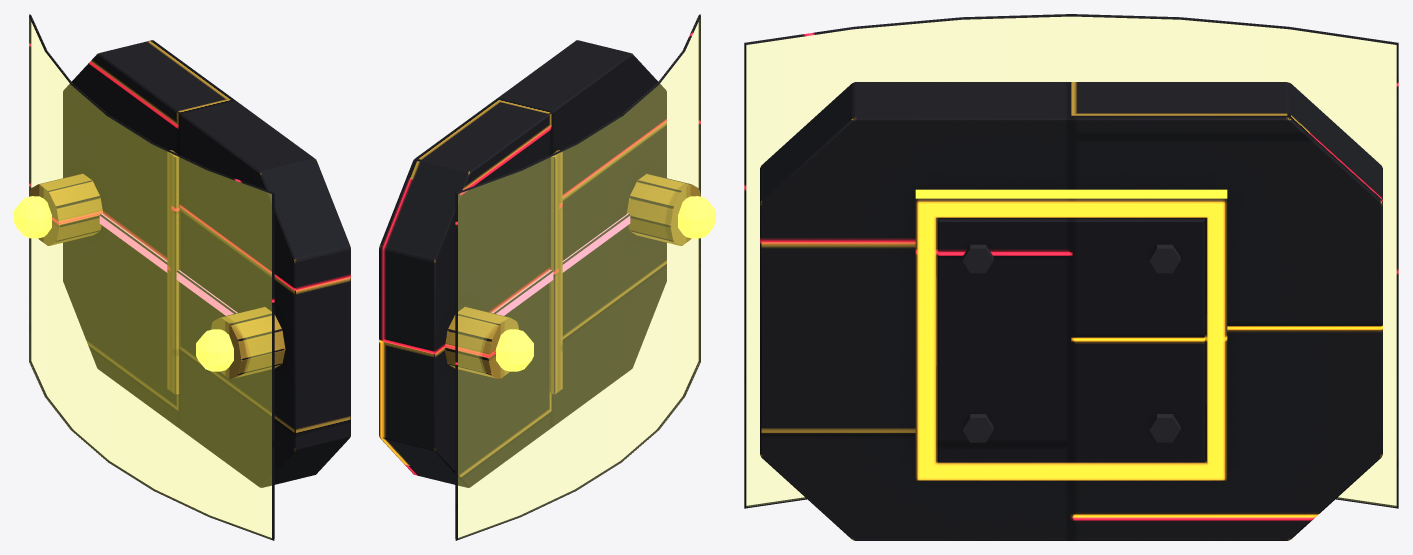
File: blindaje_energetico_t4.fbx
3 views of the same model, side by side, from view 1: azimuth 30°, elevation 25°; view 2: azimuth 150°, elevation 25°; view 3: azimuth 270°, elevation 25° (orthographic). The views are drawn at different scales.
Visible parts, largest first — view 1: blindaje_energetico_t4, blindaje_energetico_t4_domo, blindaje_energetico_t4_neon, blindaje_energetico_t4_neon2; view 2: blindaje_energetico_t4, blindaje_energetico_t4_domo, blindaje_energetico_t4_neon, blindaje_energetico_t4_neon2; view 3: blindaje_energetico_t4, blindaje_energetico_t4_domo.
Boxes of the visible parts, x1,y1,x2,y2 form: blindaje_energetico_t4: (29, 14, 350, 540); blindaje_energetico_t4_domo: (29, 18, 271, 538); blindaje_energetico_t4_neon: (14, 196, 233, 371); blindaje_energetico_t4_neon2: (99, 213, 237, 315); blindaje_energetico_t4: (379, 14, 700, 540); blindaje_energetico_t4_domo: (458, 18, 700, 538); blindaje_energetico_t4_neon: (496, 196, 715, 371); blindaje_energetico_t4_neon2: (492, 213, 630, 315); blindaje_energetico_t4: (744, 14, 1398, 540); blindaje_energetico_t4_domo: (746, 17, 1396, 506).
Bounding box in the file's own units: 1.21 × 2.64 × 3.36.
